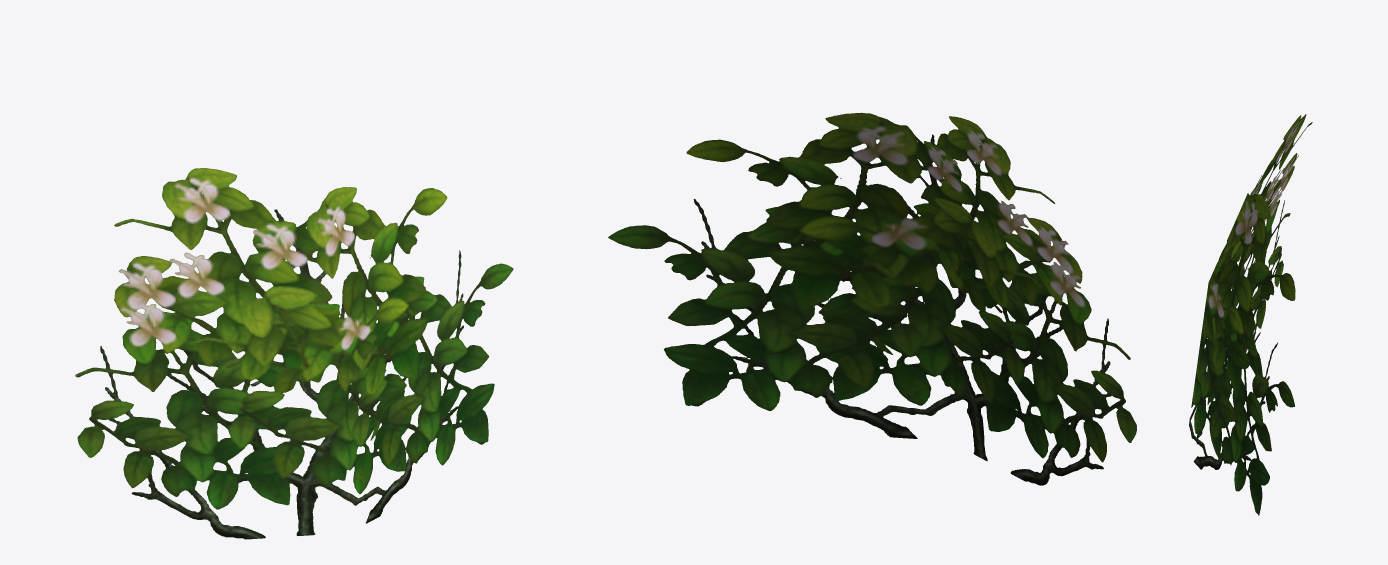
File: Npc_001_caoyao_001.FBX
The picture shows the model from 3 angles, left to right: view 1: azimuth 30°, elevation 25°; view 2: azimuth 150°, elevation 25°; view 3: azimuth 270°, elevation 25°; orthographic projection. The views are drawn at different scales.
Visible parts, largest first — view 1: Npc_001_caoyao_001; view 2: Npc_001_caoyao_001; view 3: Npc_001_caoyao_001.
Boxes of the visible parts, x1,y1,x2,y2 form: Npc_001_caoyao_001: [75, 168, 513, 539]; Npc_001_caoyao_001: [608, 112, 1136, 485]; Npc_001_caoyao_001: [1189, 114, 1312, 515].
Size of the model in its own units: 136 by 110 by 55.09.
